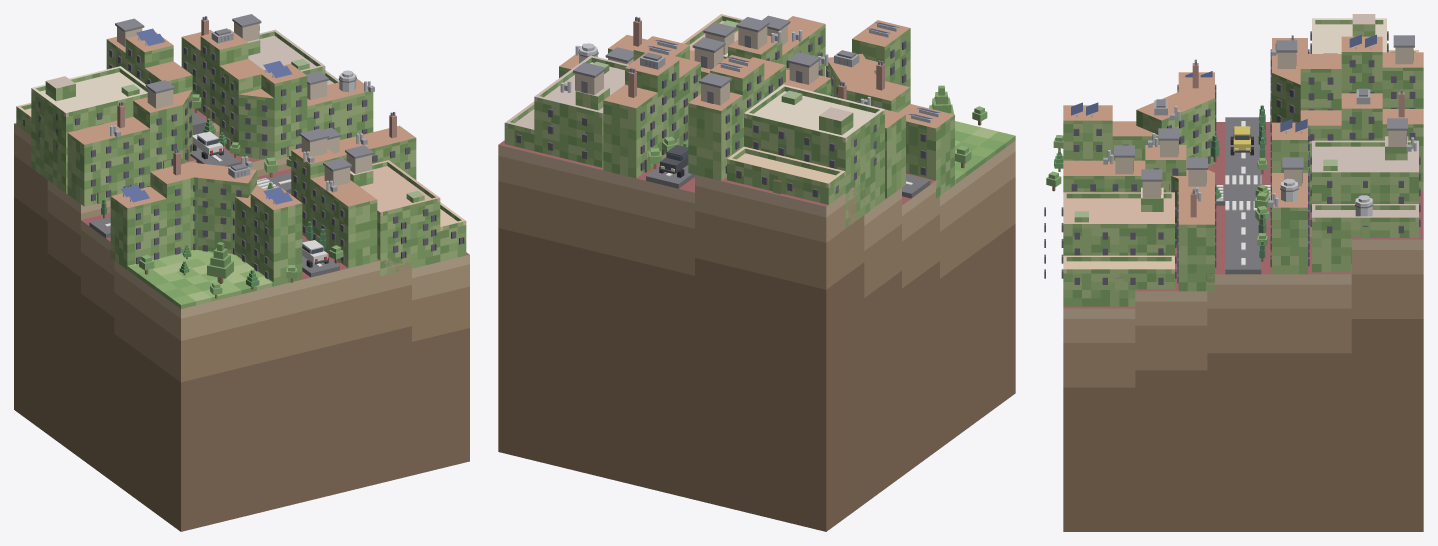
Rendered from block_16_greenfacade_65.glb.
3 views of the same model, side by side, from view 1: azimuth 30°, elevation 25°; view 2: azimuth 150°, elevation 25°; view 3: azimuth 270°, elevation 25° (orthographic). The views are drawn at different scales.
Parts seen in each view (by area): view 1: Patch_MidRight_b18_GF, Cerda_MidRight_b18_GF, Insets_MidRight_b18_GF, CerdaRoofProps_MidRight_b18_GF, Green_MidRight_b18_GF, Roads_MidRight_b18_GF, Asset_Tree_Pine.005_GF, Asset_Car.032_GF, Asset_Car.035_GF; view 2: Patch_MidRight_b18_GF, Cerda_MidRight_b18_GF, Insets_MidRight_b18_GF, CerdaRoofProps_MidRight_b18_GF, Green_MidRight_b18_GF, Roads_MidRight_b18_GF, Asset_Car.033_GF; view 3: Patch_MidRight_b18_GF, Cerda_MidRight_b18_GF, Insets_MidRight_b18_GF, CerdaRoofProps_MidRight_b18_GF, Roads_MidRight_b18_GF, Zebra_MidRight_b18_GF, Asset_Car.034_GF.
Boxes of the visible parts, x1,y1,x2,y2 form: Patch_MidRight_b18_GF: [14, 108, 469, 531]; Cerda_MidRight_b18_GF: [67, 29, 416, 286]; Insets_MidRight_b18_GF: [16, 29, 466, 276]; CerdaRoofProps_MidRight_b18_GF: [110, 14, 396, 204]; Green_MidRight_b18_GF: [127, 250, 286, 308]; Roads_MidRight_b18_GF: [89, 111, 339, 277]; Asset_Tree_Pine.005_GF: [207, 242, 233, 283]; Asset_Car.032_GF: [192, 131, 223, 159]; Asset_Car.035_GF: [302, 240, 328, 267]; Patch_MidRight_b18_GF: [498, 140, 1015, 531]; Cerda_MidRight_b18_GF: [559, 16, 954, 198]; Insets_MidRight_b18_GF: [504, 14, 884, 228]; CerdaRoofProps_MidRight_b18_GF: [560, 15, 940, 122]; Green_MidRight_b18_GF: [946, 121, 1015, 190]; Roads_MidRight_b18_GF: [646, 165, 930, 198]; Asset_Car.033_GF: [659, 145, 688, 177]; Patch_MidRight_b18_GF: [1063, 122, 1423, 531]; Cerda_MidRight_b18_GF: [1063, 36, 1423, 291]; Insets_MidRight_b18_GF: [1044, 14, 1420, 306]; CerdaRoofProps_MidRight_b18_GF: [1071, 34, 1416, 217]; Roads_MidRight_b18_GF: [1216, 117, 1270, 274]; Zebra_MidRight_b18_GF: [1216, 175, 1270, 210]; Asset_Car.034_GF: [1230, 126, 1253, 155].
Size of the model in its own units: 9.5 by 11.58 by 10.
